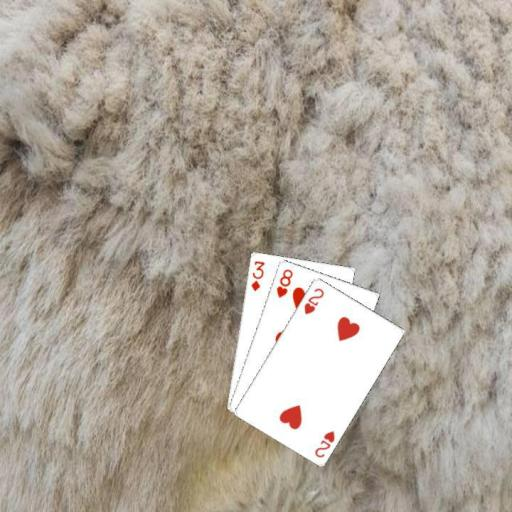2H: (301, 284, 326, 316), (312, 427, 337, 459)
3D: (247, 258, 266, 293)
8H: (273, 265, 294, 299)
